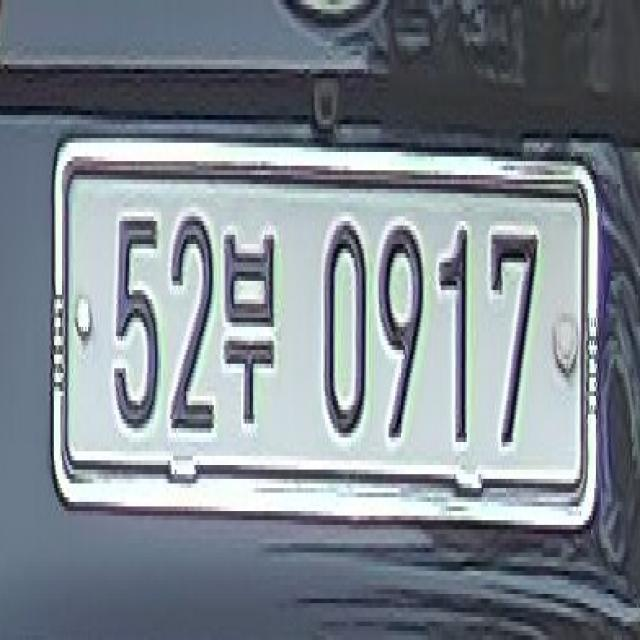0: (316, 210, 371, 450)
1: (429, 220, 481, 463)
2: (173, 206, 216, 454)
5: (108, 203, 160, 444)
7: (484, 215, 541, 454)
9: (372, 212, 424, 460)
bu: (218, 213, 282, 459)
license_plate: (45, 127, 597, 542)
